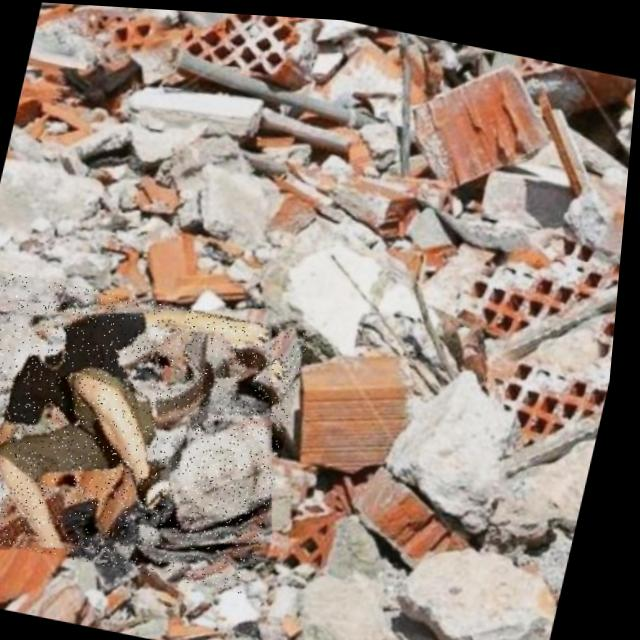Person in Rubble: (0, 266, 318, 593)
